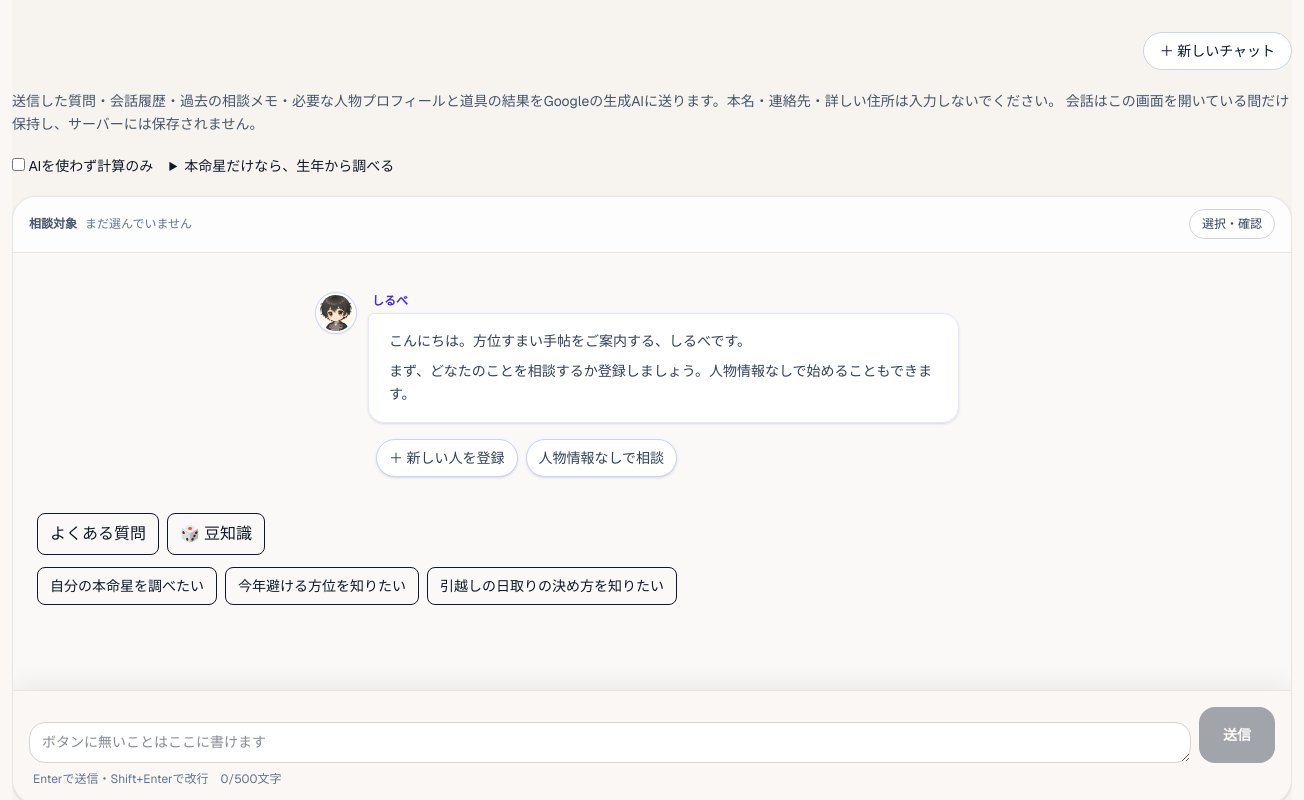
Test: 保存の提案カード › 「今はしない」はやさしく受け止めて閉じ、ログインへ移らない
The width and height of the screenshot is (1304, 800).
Click the button "人物情報なしで相談" at (601, 458), box [526, 439, 677, 477]
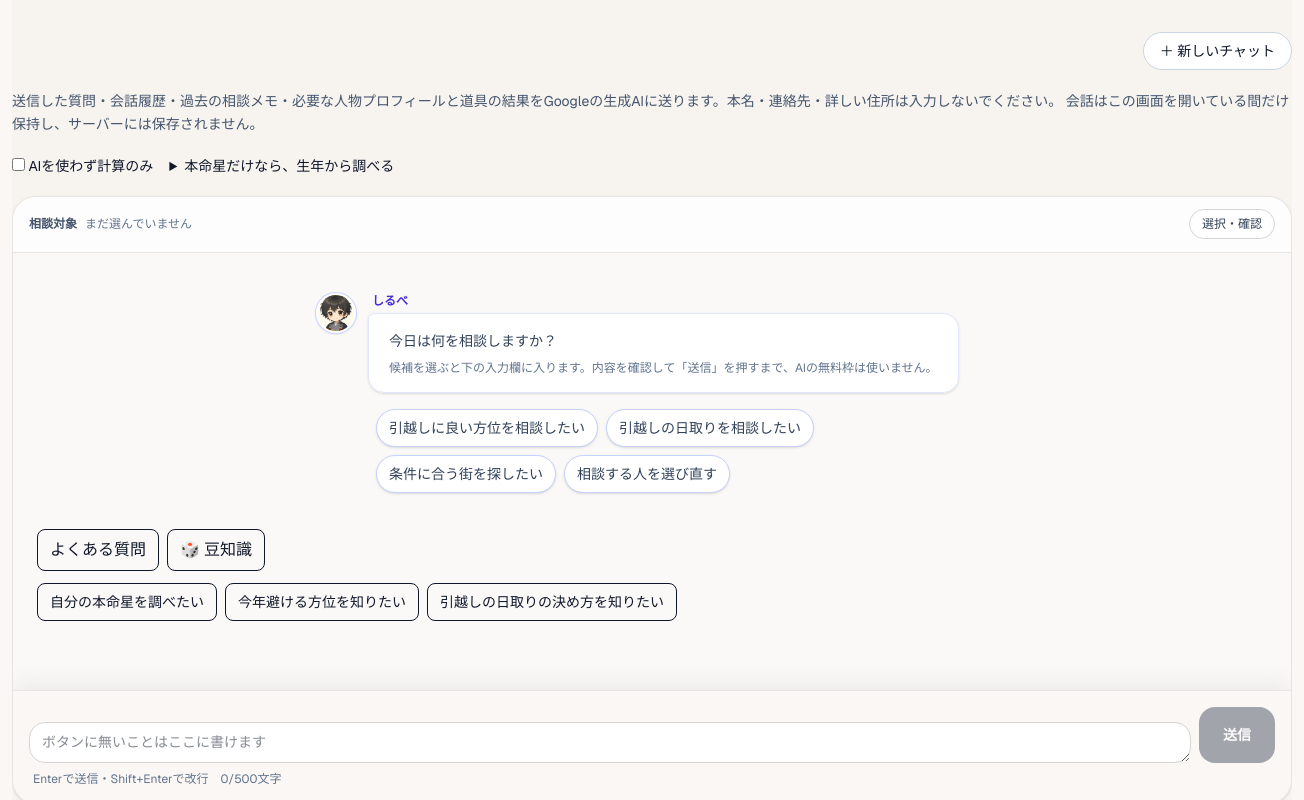
Type "1990年5月5日生まれ、深谷市から東は？" into the text box named "メッセージ" at (610, 742), box [29, 722, 1191, 763]
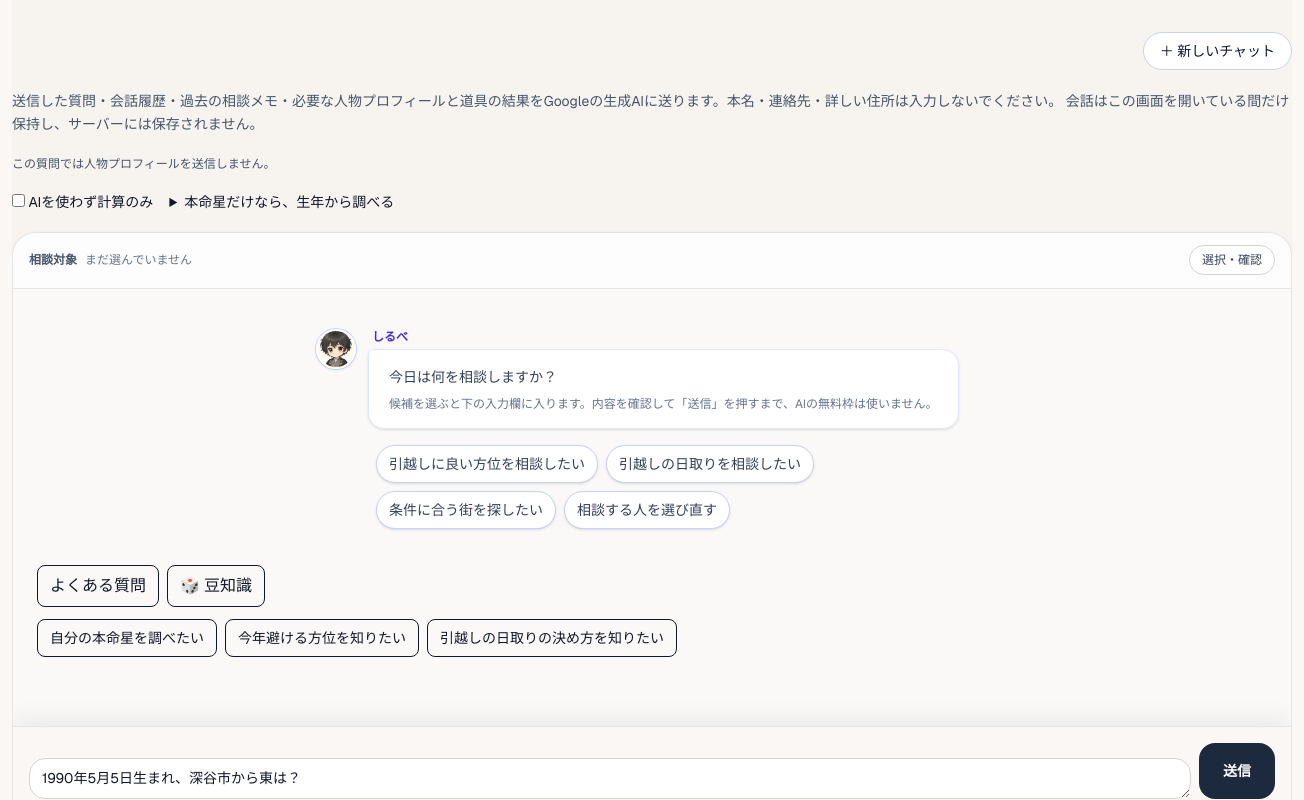
Click the button "送信" at (1237, 770), box [1199, 742, 1275, 798]
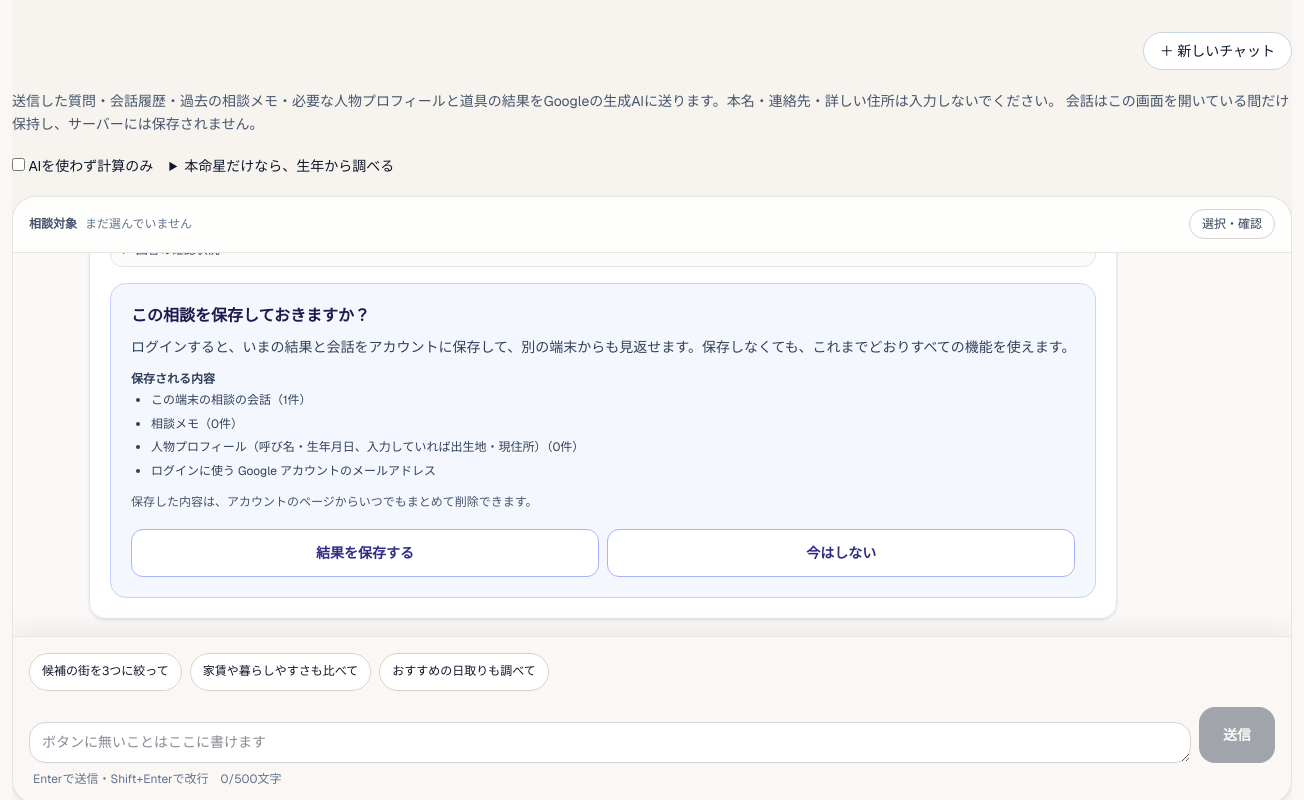
Click the button "今はしない" at (841, 552), box [607, 528, 1075, 576]
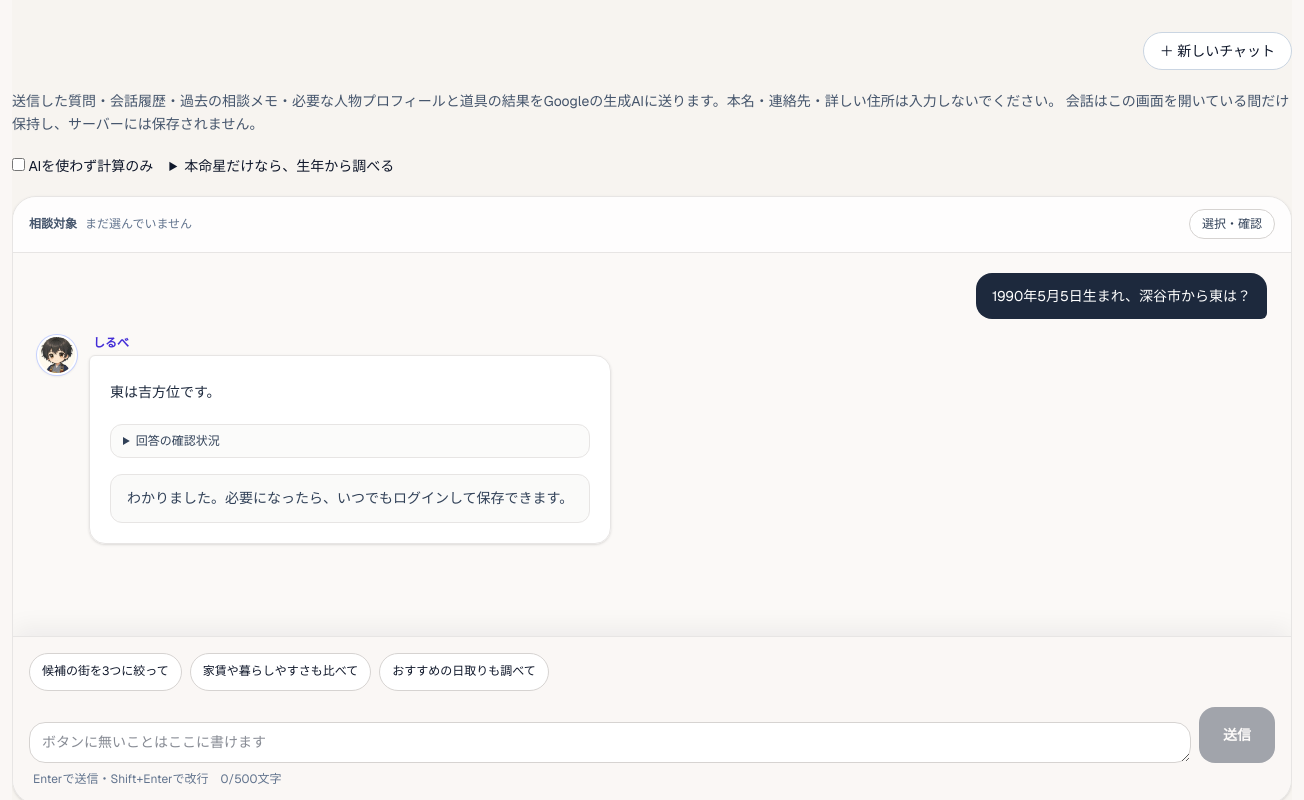
Expected: the text "わかりました。必要になったら、いつでもログインして保存できます。" is shown, [110, 474, 590, 523]
Expected: the button "結果を保存する" is gone
